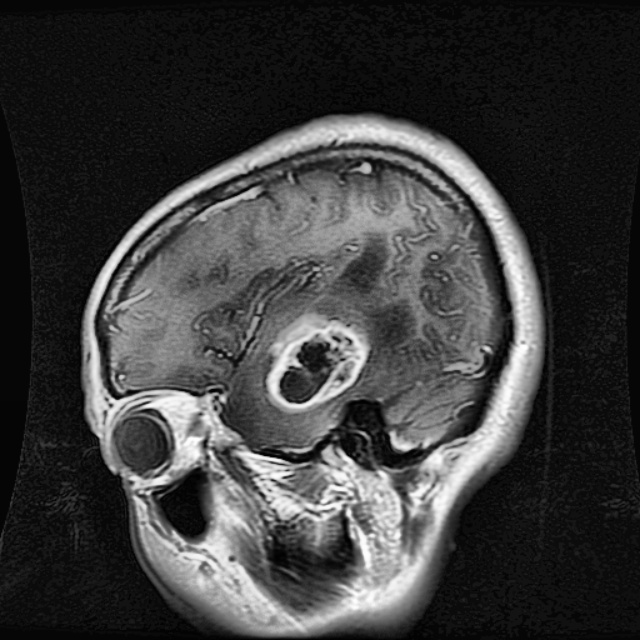Meningioma: (269, 317, 372, 412)
